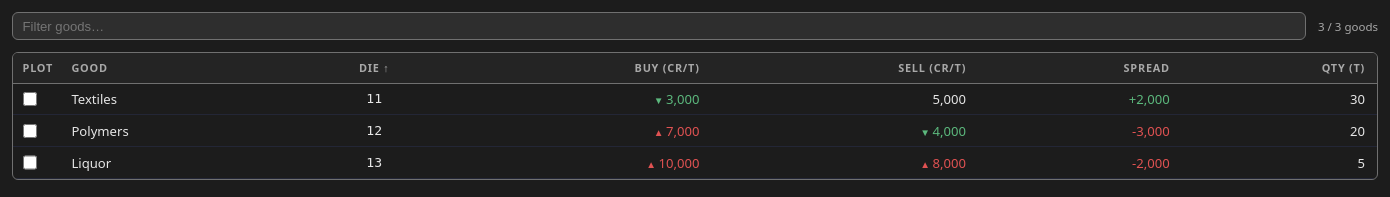
Test case: MarketTable — filter › filters rows by die code
This screenshot has width=1390, height=197.
Type "13" into the search field with class "market-search".
click(659, 26); type("13")  # box [12, 12, 1306, 40]
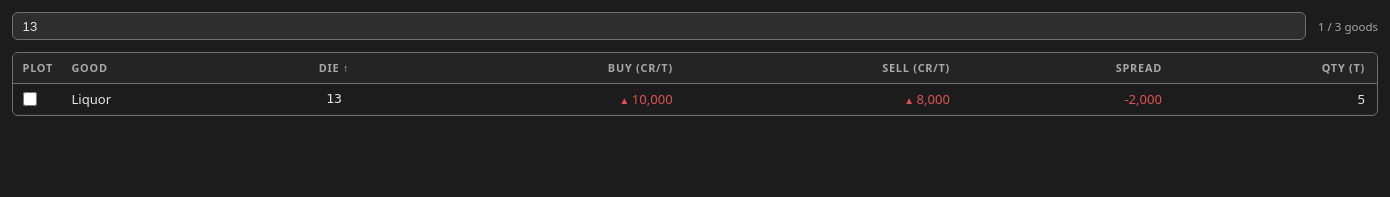
Expected: the button with class "market-row" shows "Liquor", [13, 83, 1377, 115]
Result: the number of buttons with class "market-row" is 1 at [13, 83, 1377, 115]
